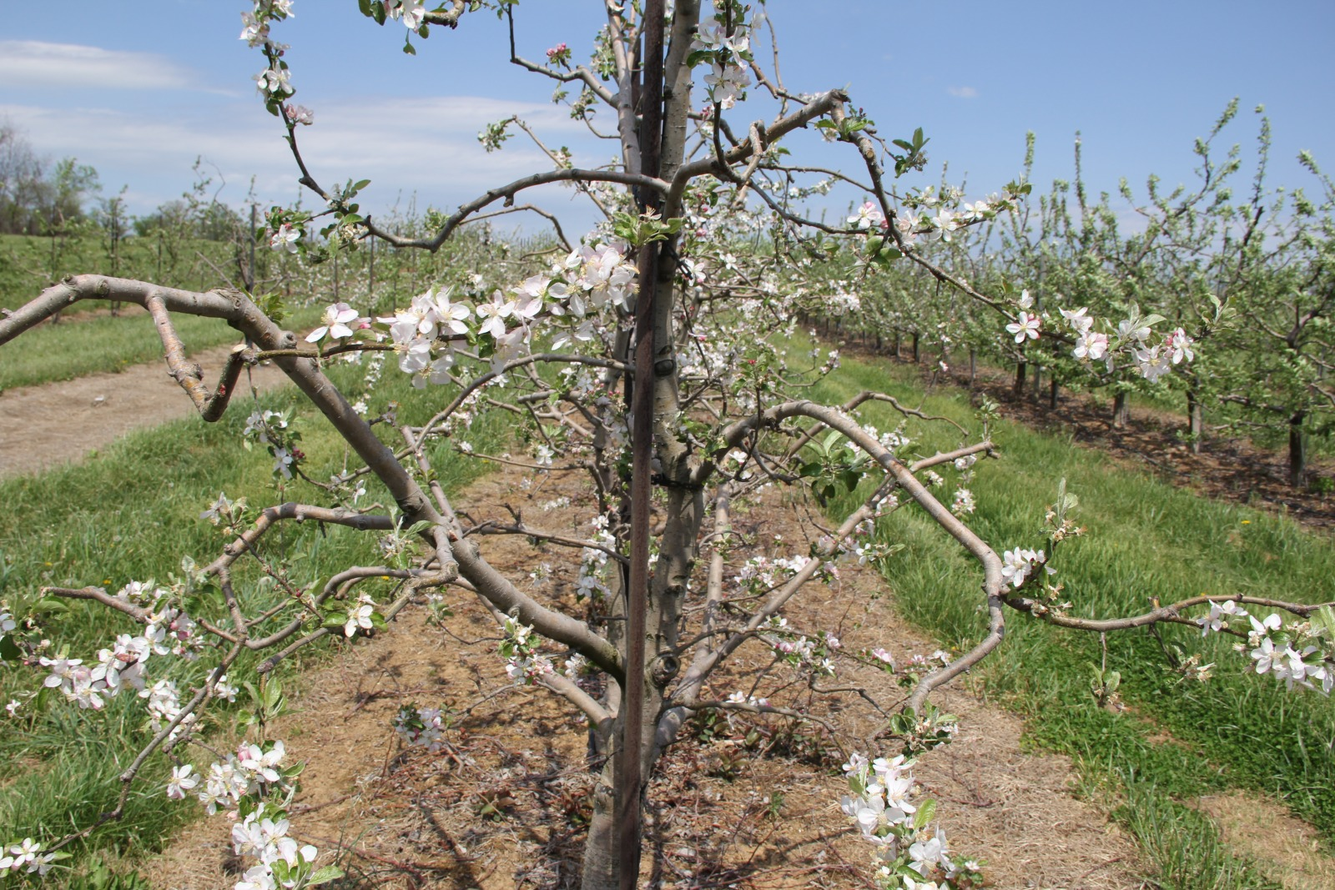flower: (40, 605, 184, 722), (376, 287, 471, 385), (476, 271, 552, 388), (841, 755, 918, 862), (695, 3, 767, 110), (548, 238, 640, 318), (198, 741, 285, 816), (230, 803, 298, 890), (1251, 635, 1335, 693), (1124, 328, 1195, 385), (1059, 307, 1114, 374), (239, 0, 291, 53), (305, 302, 372, 343), (908, 827, 960, 879), (929, 201, 991, 242), (395, 707, 445, 752), (0, 838, 55, 876), (1196, 600, 1248, 637), (1001, 547, 1046, 587), (506, 653, 555, 688), (254, 63, 296, 101), (158, 765, 201, 800), (383, 0, 426, 34), (552, 319, 594, 351), (893, 210, 924, 251), (848, 196, 886, 229), (1006, 311, 1041, 344), (199, 492, 234, 522), (572, 574, 612, 598), (271, 224, 301, 254), (345, 606, 374, 637), (680, 257, 710, 283), (566, 653, 589, 686), (171, 612, 197, 641), (843, 750, 869, 779), (285, 104, 315, 129), (113, 580, 151, 599), (1250, 614, 1282, 636), (273, 447, 294, 480), (573, 370, 596, 397), (533, 444, 557, 465), (904, 876, 940, 890), (780, 556, 811, 572), (582, 547, 608, 566), (986, 187, 1013, 204), (598, 530, 617, 552), (217, 684, 239, 703), (244, 412, 262, 435), (273, 0, 295, 18), (590, 511, 610, 529), (352, 480, 366, 505), (1114, 320, 1131, 339), (1018, 289, 1034, 309), (300, 845, 318, 862), (0, 614, 16, 631), (411, 374, 427, 390), (547, 303, 566, 316), (148, 588, 168, 600), (449, 340, 470, 351), (727, 691, 746, 703), (7, 700, 21, 716), (225, 809, 239, 823), (691, 40, 706, 53), (169, 726, 182, 741), (1301, 646, 1317, 657), (150, 719, 162, 732), (181, 712, 195, 723), (283, 877, 296, 887), (264, 410, 273, 423), (259, 434, 269, 443), (518, 636, 526, 645), (509, 616, 517, 624), (280, 421, 288, 428), (520, 629, 527, 636)
